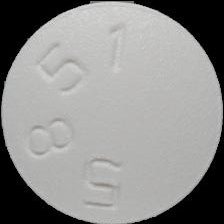64205-585: (0, 0, 224, 224)
